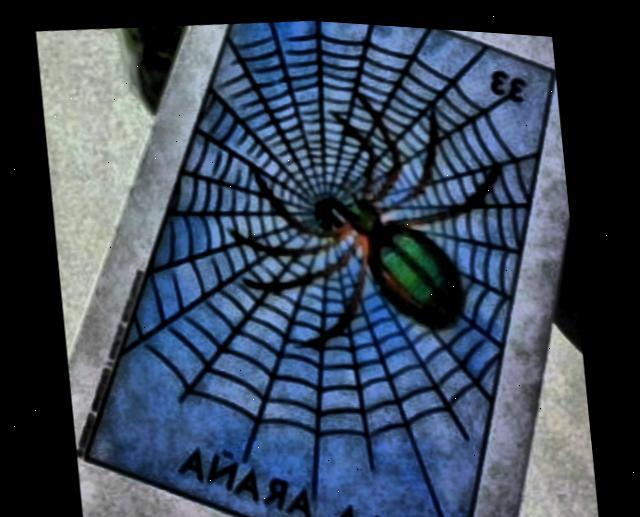La Arana: (88, 16, 554, 517)
